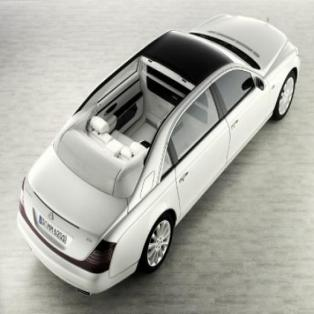Auto: (16, 9, 301, 298)
